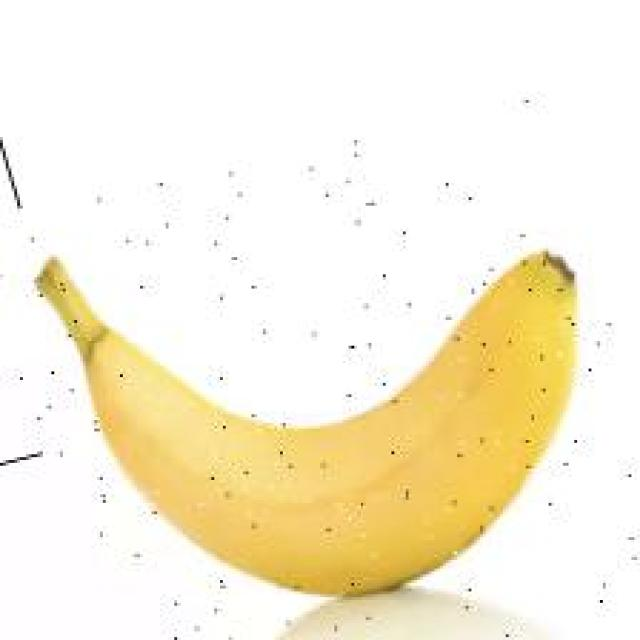banana: (35, 223, 612, 637)
